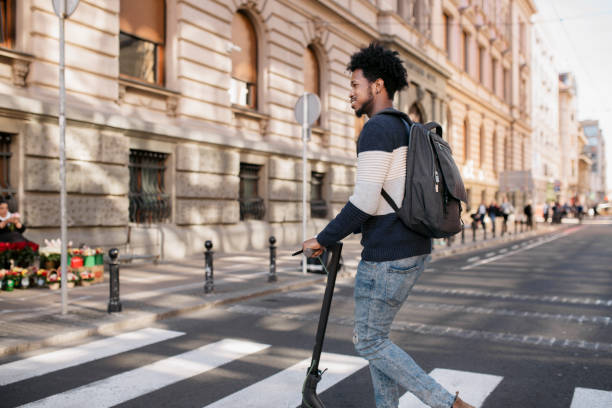yaya: (278, 21, 500, 407)
